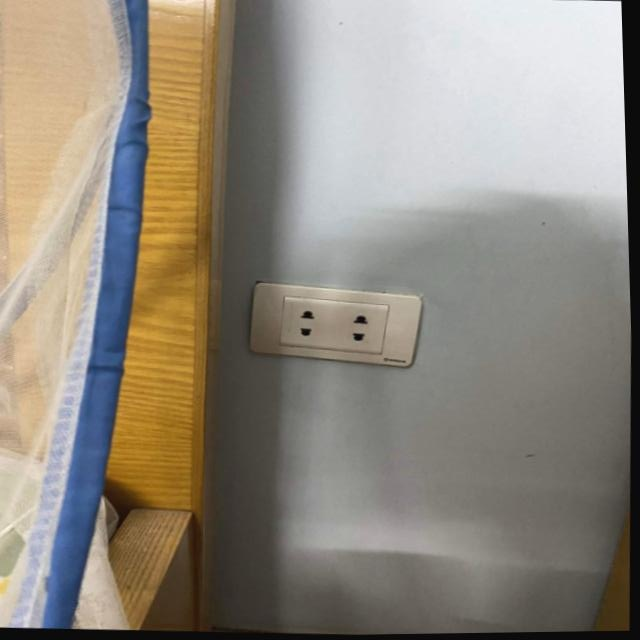outlet: (245, 280, 425, 373)
